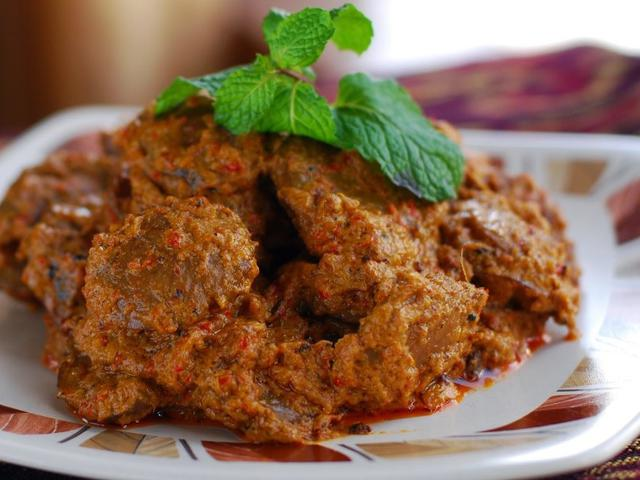rendang: (12, 85, 607, 455)
